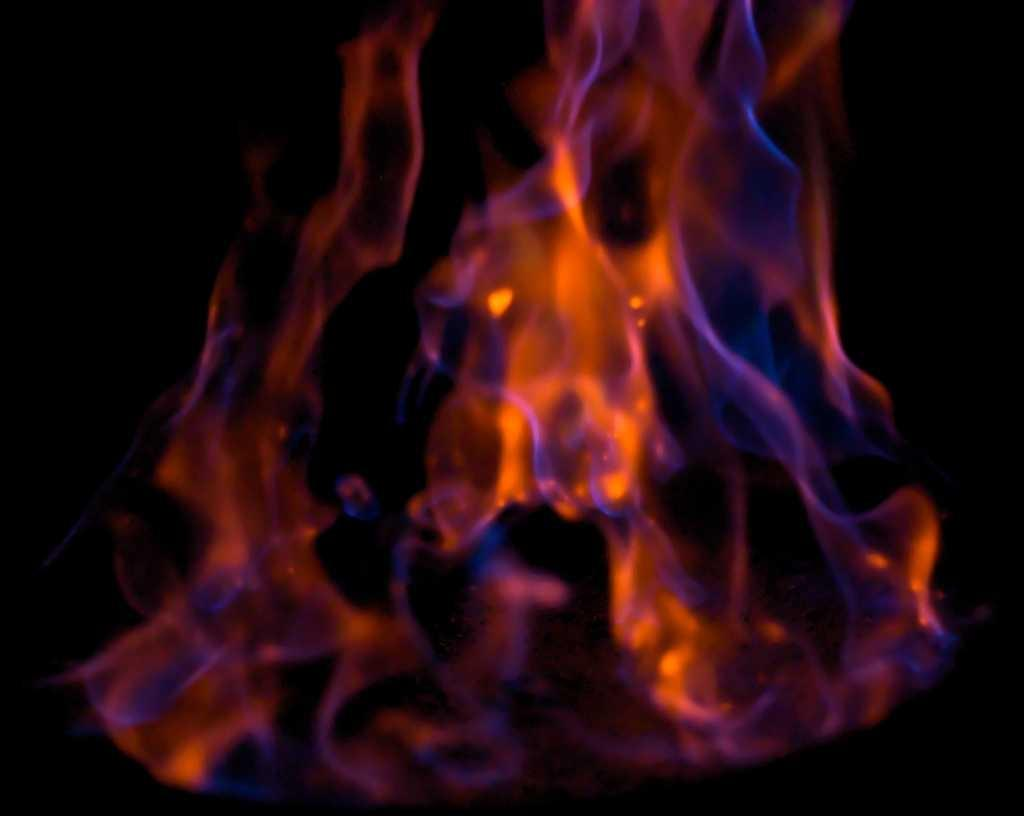fire: (171, 27, 837, 782)
